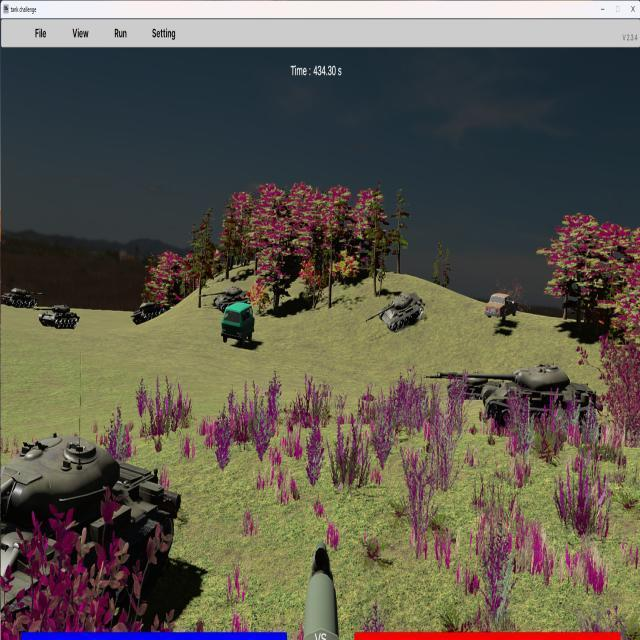Tank: (1, 432, 182, 635), (433, 362, 605, 433), (366, 292, 426, 332), (200, 286, 253, 312), (32, 305, 80, 329), (130, 300, 173, 325), (1, 287, 46, 309)
car: (221, 303, 255, 345), (484, 293, 518, 319)
